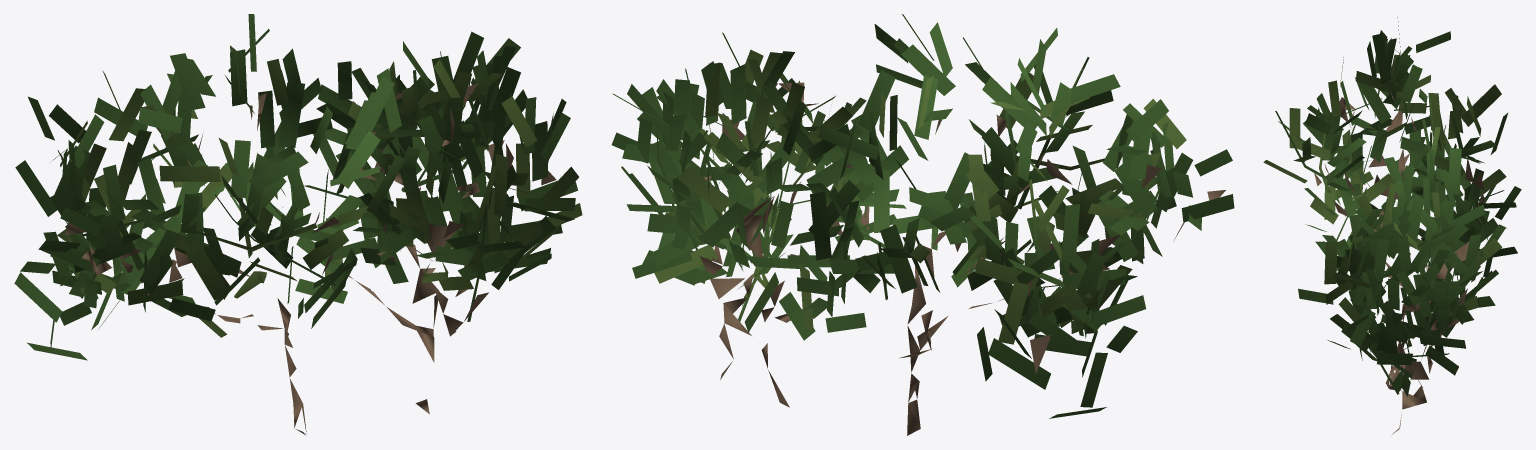
File: arvores_dupla_longe.glb
3 renders of one model, left to right at view 1: azimuth 30°, elevation 25°; view 2: azimuth 150°, elevation 25°; view 3: azimuth 270°, elevation 25°, orthographic. The views are drawn at different scales.
Parts seen in each view (by area): view 1: arvores_dupla_longe; view 2: arvores_dupla_longe; view 3: arvores_dupla_longe.
Boxes of the visible parts, x1,y1,x2,y2 form: arvores_dupla_longe: (14,14,582,435); arvores_dupla_longe: (611,14,1234,435); arvores_dupla_longe: (1263,17,1521,434).
Size of the model in its own units: 2.42 by 1.8 by 1.34.
